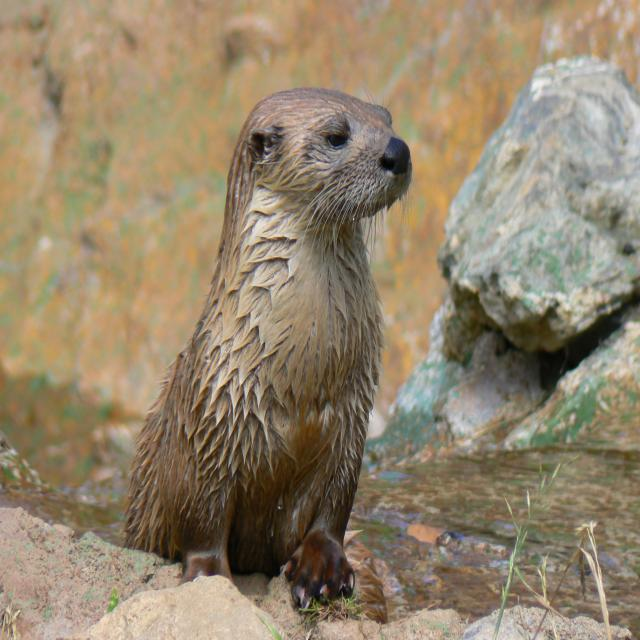otter: (127, 87, 413, 610)
